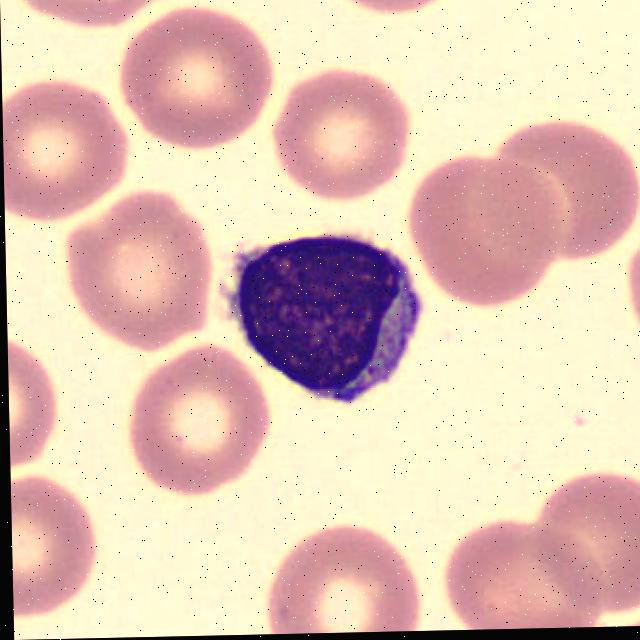lymphocyte: (230, 221, 424, 400)
rbc: (66, 189, 222, 349), (407, 158, 562, 301), (118, 8, 275, 148), (128, 357, 275, 495), (2, 78, 141, 222), (267, 72, 411, 200), (261, 522, 417, 634), (448, 511, 593, 630), (503, 126, 631, 258), (534, 470, 640, 602), (10, 469, 101, 618), (7, 329, 68, 466), (19, 0, 168, 25), (340, 0, 444, 23), (624, 235, 640, 341)
